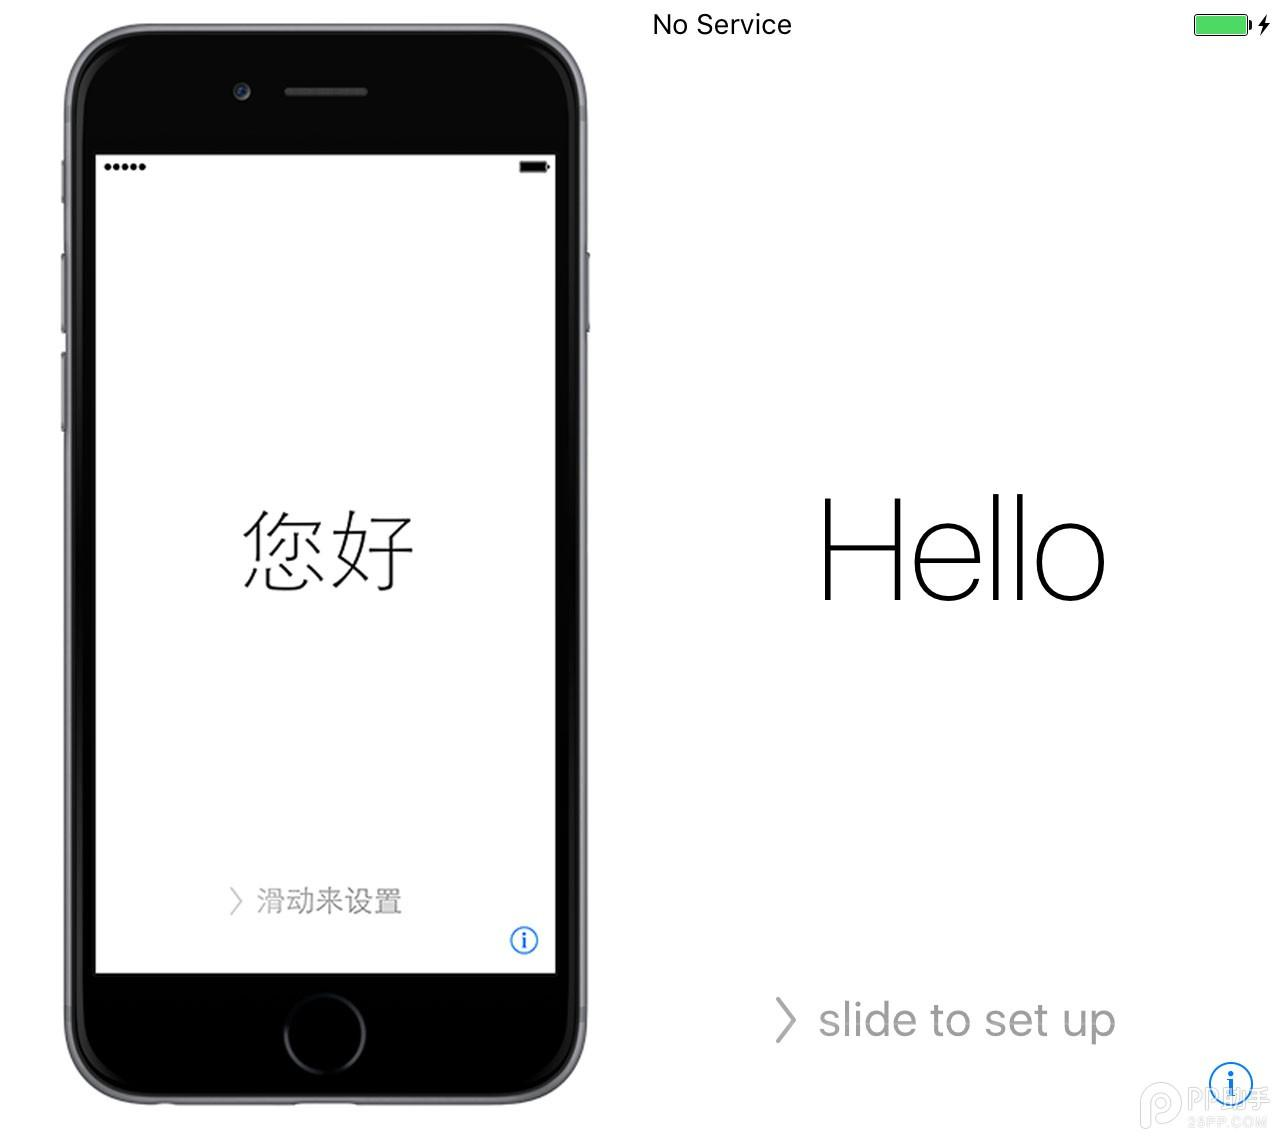phone: (68, 35, 600, 1123)
